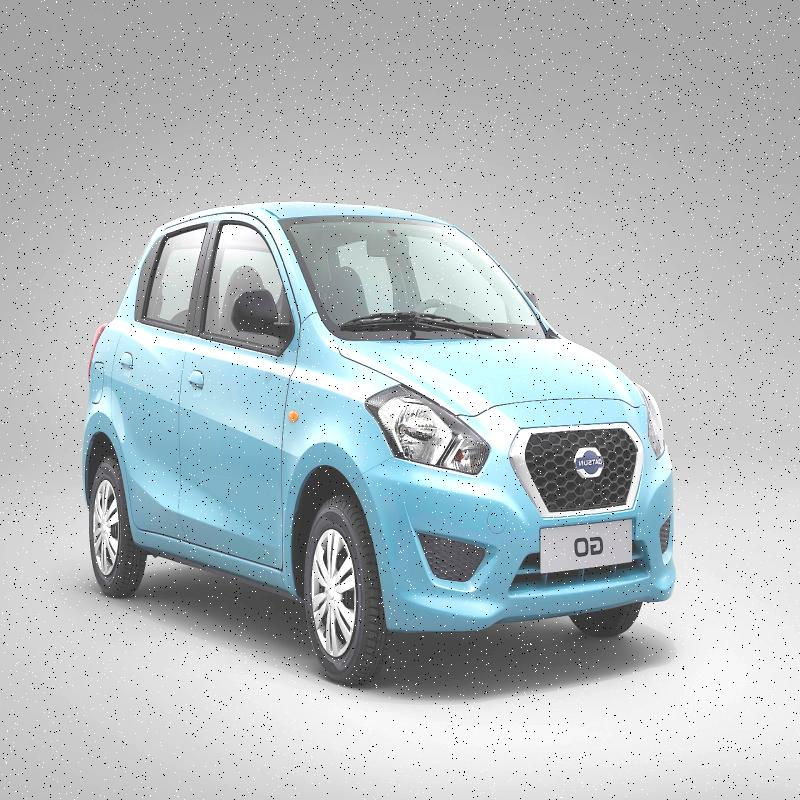car: (75, 184, 675, 691)
